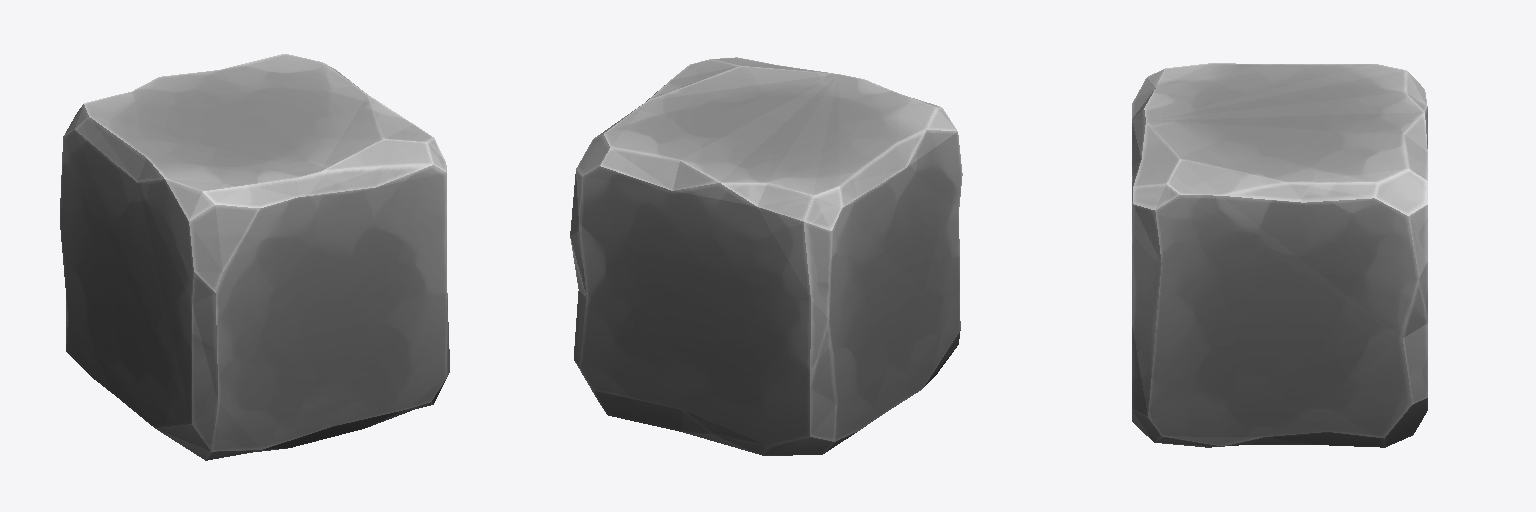
3 renders of one model, left to right at view 1: azimuth 30°, elevation 25°; view 2: azimuth 150°, elevation 25°; view 3: azimuth 270°, elevation 25°, orthographic.
Parts seen in each view (by area): view 1: Cube.001; view 2: Cube.001; view 3: Cube.001.
Boxes of the visible parts, x1,y1,x2,y2 form: Cube.001: [60, 54, 449, 460]; Cube.001: [570, 57, 962, 455]; Cube.001: [1132, 63, 1427, 447].
Bounding box in the file's own units: 2.06 × 2.06 × 2.06.
2 materials, 1 textured.